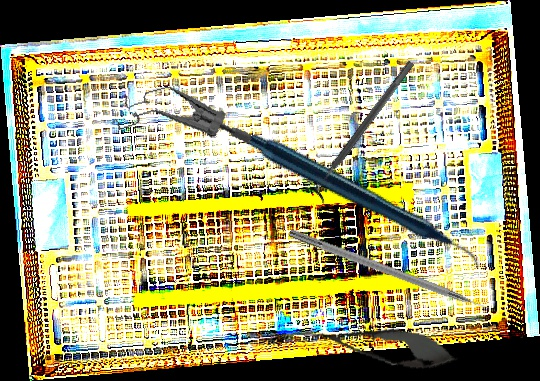Fixation Ring: (303, 55, 423, 205)
Handpiece: (241, 69, 483, 337)
Hook Surgical: (287, 227, 505, 321)
Micro Scissor: (297, 313, 462, 377)
Speculum: (105, 67, 253, 174)
